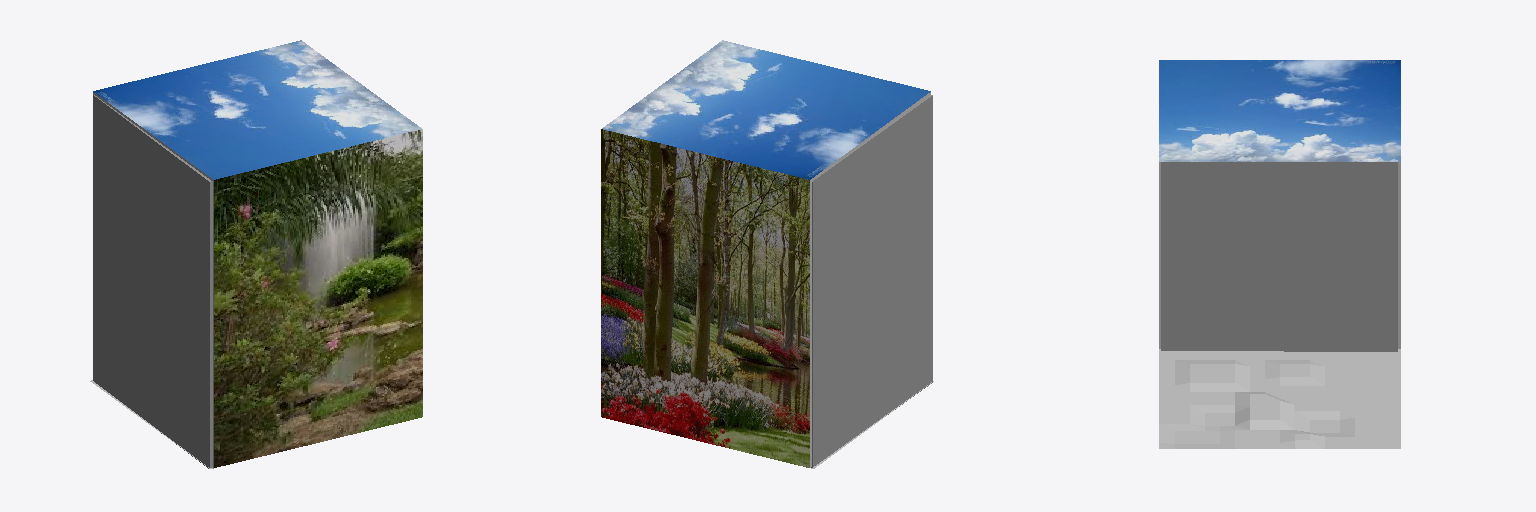
3 renders of one model, left to right at view 1: azimuth 30°, elevation 25°; view 2: azimuth 150°, elevation 25°; view 3: azimuth 270°, elevation 25°, orthographic.
Parts seen in each view (by area): view 1: Cube.001, Cube; view 2: Cube.001, Cube; view 3: Cube, Cube.001, Plane.
Part boxes in pixels (left/top/right/bottom): Cube.001: left=93, top=40, right=422, bottom=467; Cube: left=93, top=95, right=213, bottom=468; Cube.001: left=601, top=40, right=930, bottom=467; Cube: left=806, top=95, right=932, bottom=467; Cube: left=1161, top=162, right=1397, bottom=351; Cube.001: left=1159, top=60, right=1400, bottom=348; Plane: left=1159, top=349, right=1400, bottom=448.
Size of the model in its own units: 30.36 by 39.8 by 30.06.
Materials: 6 (3 with a texture image).